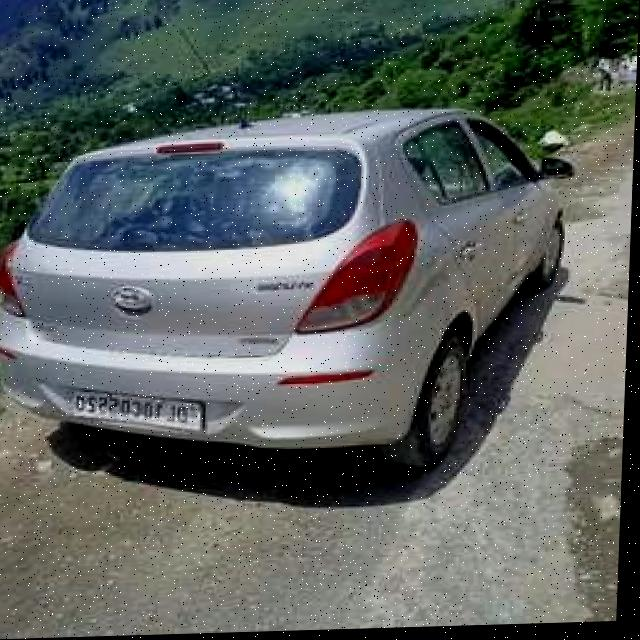plate: (74, 388, 212, 435)
